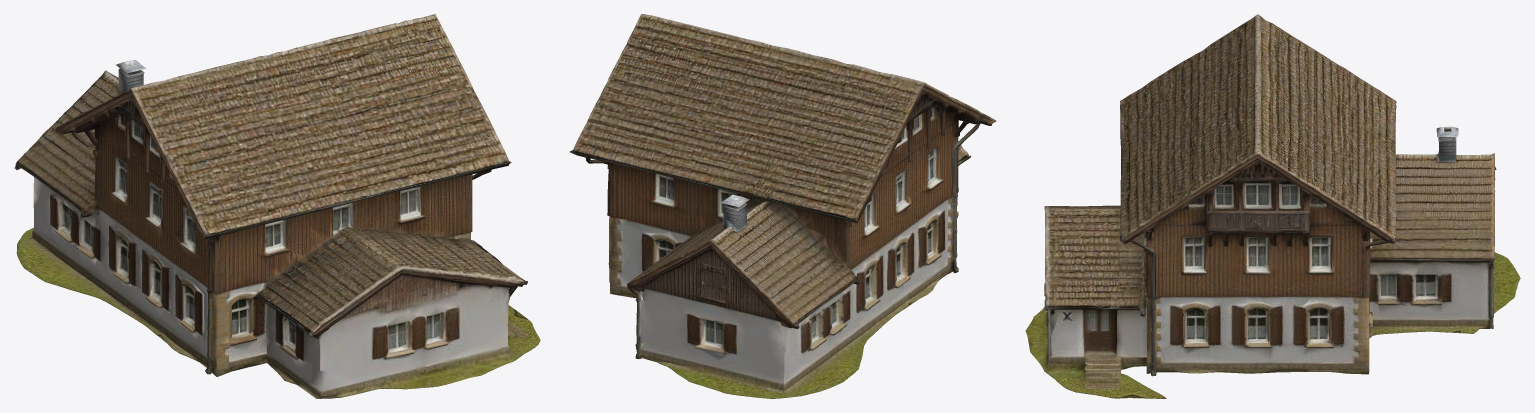
The model's file is kreuzhaus.glb.
The picture shows the model from 3 angles, left to right: view 1: azimuth 30°, elevation 25°; view 2: azimuth 150°, elevation 25°; view 3: azimuth 270°, elevation 25°; orthographic projection. The views are drawn at different scales.
Parts seen in each view (by area): view 1: tripo_node_3a6fa523-974e-421f-a029-ae1538cf8bbb; view 2: tripo_node_3a6fa523-974e-421f-a029-ae1538cf8bbb; view 3: tripo_node_3a6fa523-974e-421f-a029-ae1538cf8bbb.
Part boxes in pixels (x1,y1,x2,y2): tripo_node_3a6fa523-974e-421f-a029-ae1538cf8bbb: [14, 14, 540, 398]; tripo_node_3a6fa523-974e-421f-a029-ae1538cf8bbb: [569, 14, 996, 398]; tripo_node_3a6fa523-974e-421f-a029-ae1538cf8bbb: [1025, 14, 1520, 398].
Bounding box in the file's own units: 0.7215 × 0.5327 × 1.
Materials: 1 (1 with a texture image).
